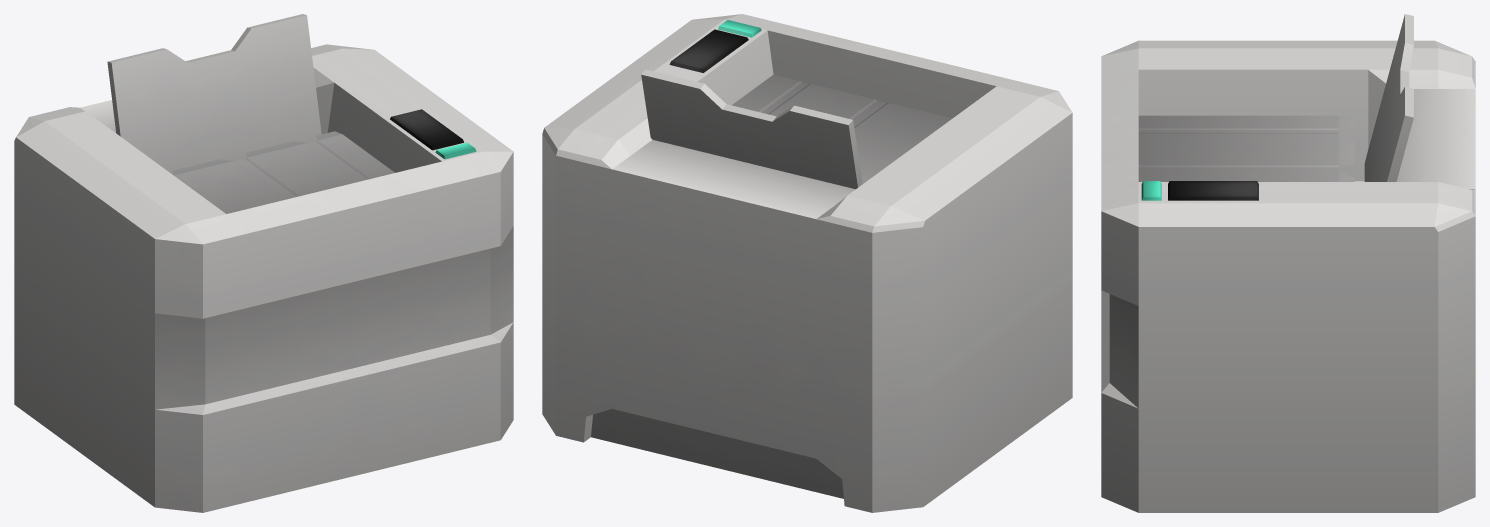
The model's file is Printer.fbx.
3 renders of one model, left to right at view 1: azimuth 30°, elevation 25°; view 2: azimuth 150°, elevation 25°; view 3: azimuth 270°, elevation 25°, orthographic. The views are drawn at different scales.
Visible parts, largest first — view 1: Printer; view 2: Printer; view 3: Printer.
Boxes of the visible parts, x1,y1,x2,y2 form: Printer: (14,14,513,512); Printer: (542,14,1072,512); Printer: (1101,14,1475,512).
Bounding box in the file's own units: 42.18 × 37.45 × 35.8.
